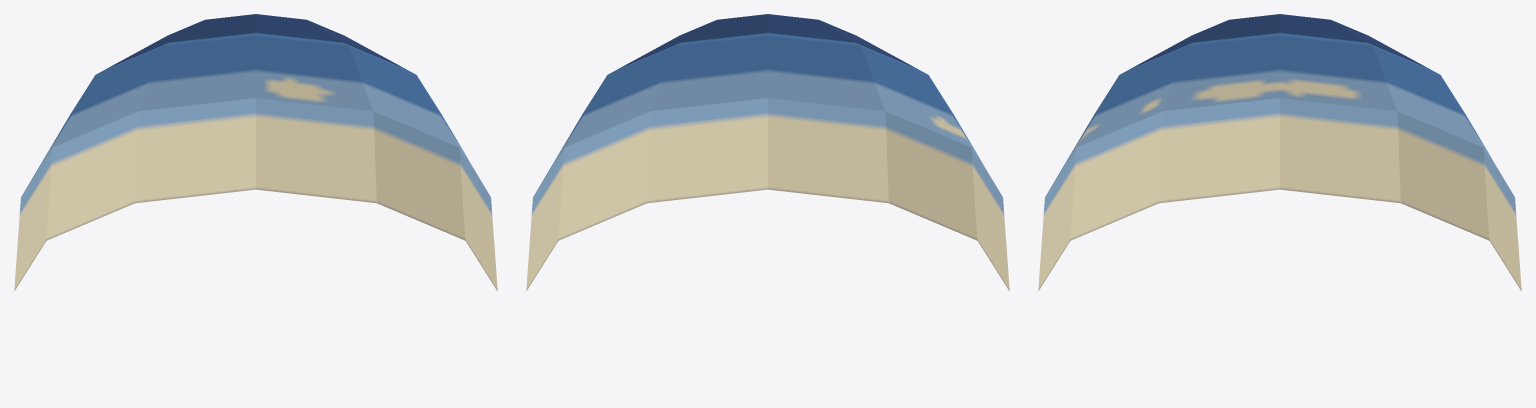
The model's file is sky.backdrop.glb.
3 views of the same model, side by side, from view 1: azimuth 30°, elevation 25°; view 2: azimuth 150°, elevation 25°; view 3: azimuth 270°, elevation 25° (orthographic).
Visible parts, largest first — view 1: kit_shell_sky; view 2: kit_shell_sky; view 3: kit_shell_sky.
Part boxes in pixels (<box>): kit_shell_sky: <box>14,14,497,290</box>; kit_shell_sky: <box>526,14,1009,290</box>; kit_shell_sky: <box>1038,14,1521,290</box>.
Size of the model in its own units: 791 by 460 by 791.
1 material, 1 textured.
